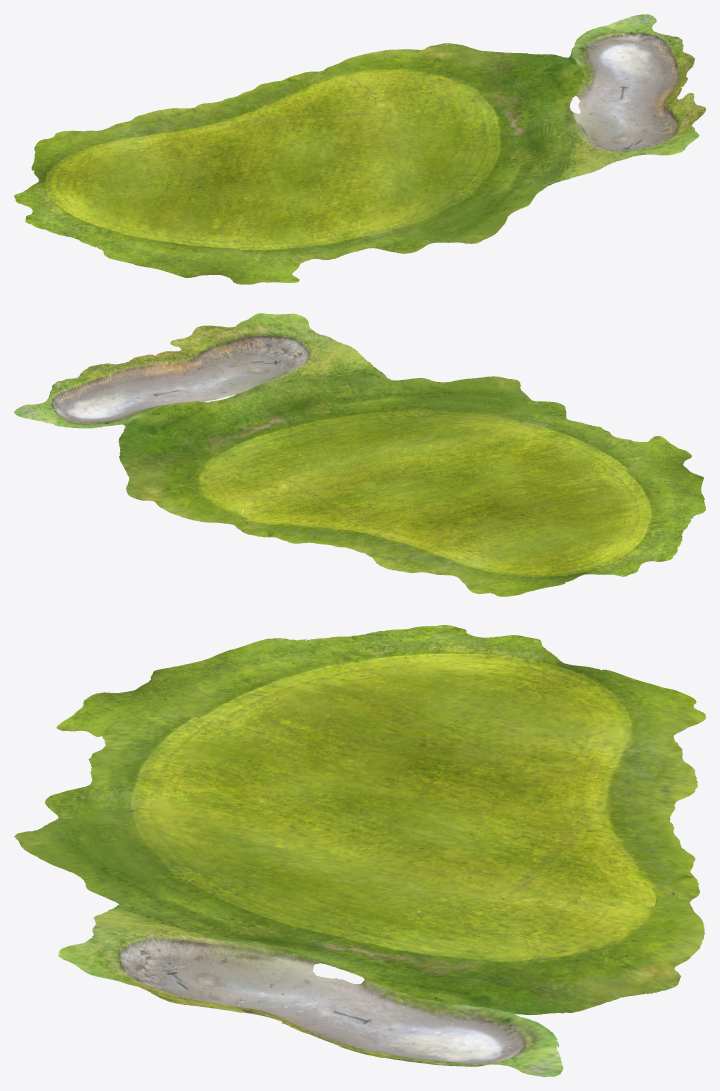
Rendered from golf.glb.
The picture shows the model from 3 angles, top to bottom: view 1: azimuth 30°, elevation 25°; view 2: azimuth 150°, elevation 25°; view 3: azimuth 270°, elevation 25°; orthographic projection. The views are drawn at different scales.
Visible parts, largest first — view 1: Object_2; view 2: Object_2; view 3: Object_2.
Boxes of the visible parts, left/top/right/bottom form: Object_2: left=14, top=14, right=705, bottom=284; Object_2: left=14, top=313, right=705, bottom=596; Object_2: left=14, top=625, right=705, bottom=1076.
Size of the model in its own units: 41.42 by 2.42 by 25.04.
Materials: 1 (1 with a texture image).
